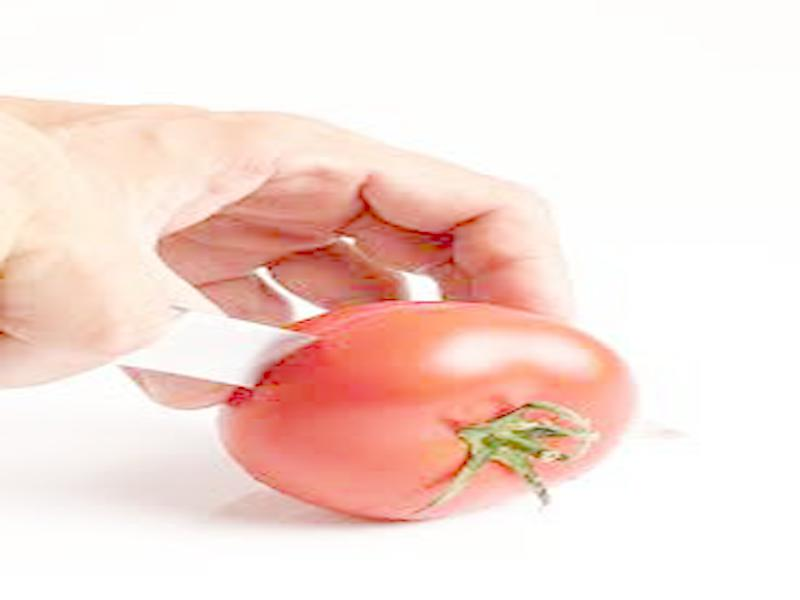Tomato: (219, 299, 630, 519)
